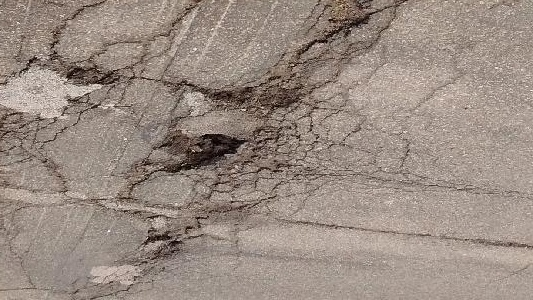pothole: (167, 127, 248, 174), (210, 83, 301, 112), (318, 0, 376, 36), (137, 226, 185, 262), (60, 59, 117, 86)
